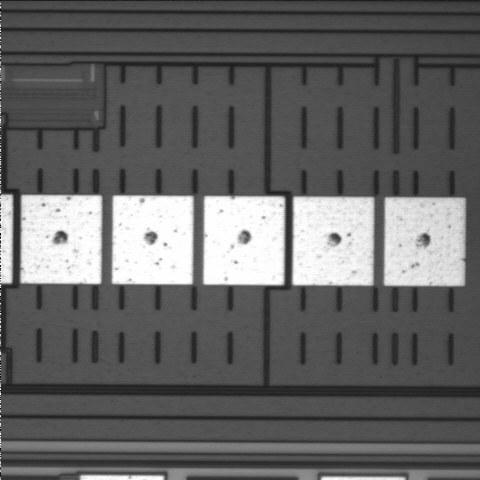pad: (203, 196, 285, 285), (292, 197, 374, 286), (21, 195, 102, 284), (112, 196, 193, 285), (384, 198, 465, 286)
